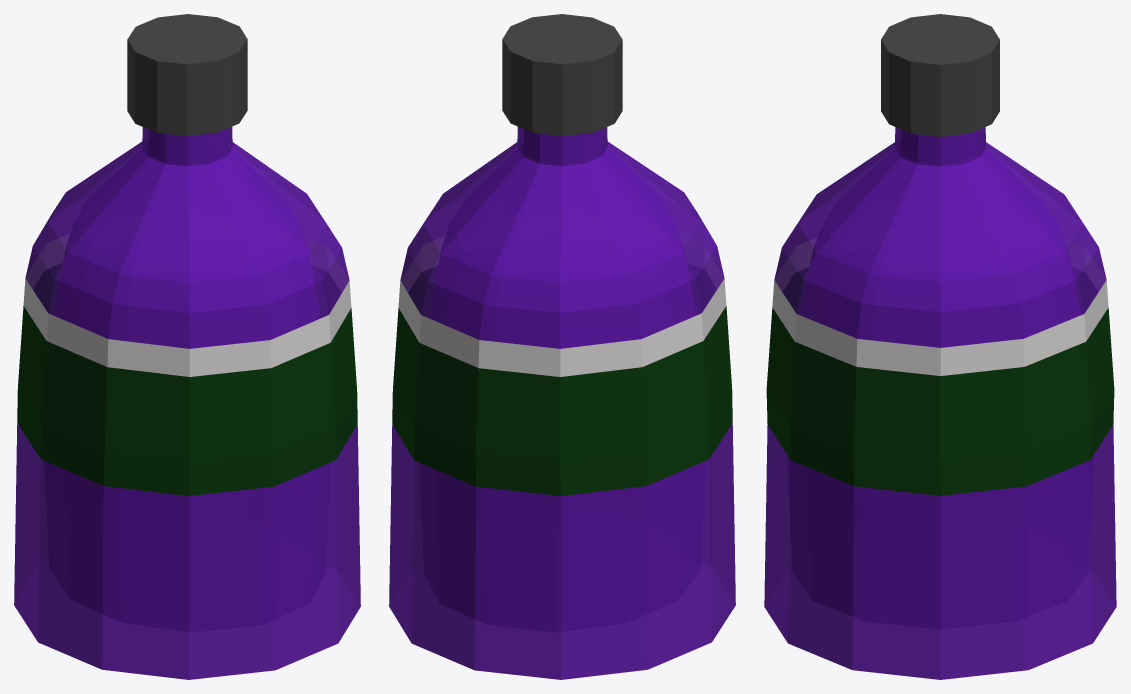
File: Spirit Bottle 4.fbx
The picture shows the model from 3 angles, left to right: view 1: azimuth 30°, elevation 25°; view 2: azimuth 150°, elevation 25°; view 3: azimuth 270°, elevation 25°; orthographic projection.
Parts seen in each view (by area): view 1: Spirit Bottle 4, Spirit Bottle 1 Lid; view 2: Spirit Bottle 4, Spirit Bottle 1 Lid; view 3: Spirit Bottle 4, Spirit Bottle 1 Lid.
Boxes of the visible parts, left/top/right/bottom form: Spirit Bottle 4: left=14, top=126, right=360, bottom=679; Spirit Bottle 1 Lid: left=127, top=14, right=247, bottom=136; Spirit Bottle 4: left=389, top=126, right=735, bottom=679; Spirit Bottle 1 Lid: left=502, top=14, right=622, bottom=136; Spirit Bottle 4: left=764, top=127, right=1116, bottom=679; Spirit Bottle 1 Lid: left=881, top=14, right=999, bottom=136.
Size of the model in its own units: 249 by 451 by 254.
